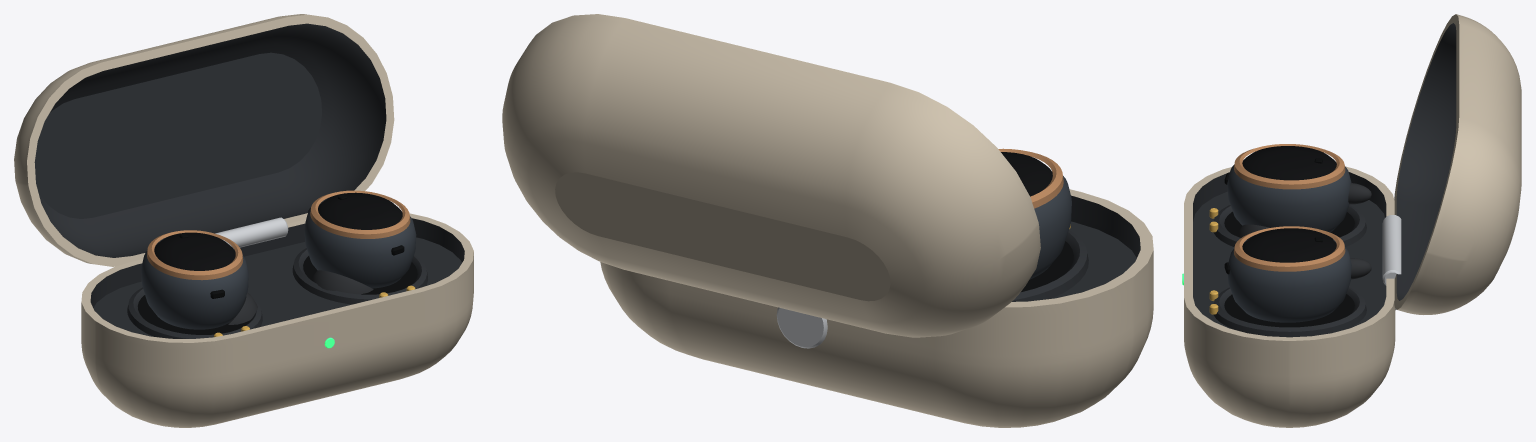
File: wireless-earbuds.glb
The picture shows the model from 3 angles, left to right: view 1: azimuth 30°, elevation 25°; view 2: azimuth 150°, elevation 25°; view 3: azimuth 270°, elevation 25°; orthographic projection. The views are drawn at different scales.
Parts seen in each view (by area): view 1: Lid, Case, Bud_Left, Bud_Right; view 2: Lid, Case, Bud_Right; view 3: Case, Lid, Bud_Left, Bud_Right.
Part boxes in pixels (box(x1,y1,x2,y2)): Lid: box(14, 14, 394, 266); Case: box(81, 213, 473, 427); Bud_Left: box(304, 190, 416, 294); Bud_Right: box(141, 230, 257, 329); Lid: box(502, 14, 1040, 337); Case: box(600, 189, 1153, 427); Bud_Right: box(998, 148, 1071, 279); Case: box(1182, 166, 1401, 427); Lid: box(1394, 14, 1521, 314); Bud_Left: box(1224, 226, 1371, 322); Bud_Right: box(1224, 144, 1371, 239).
Bounding box in the file's own units: 0.067 × 0.0505 × 0.053.
